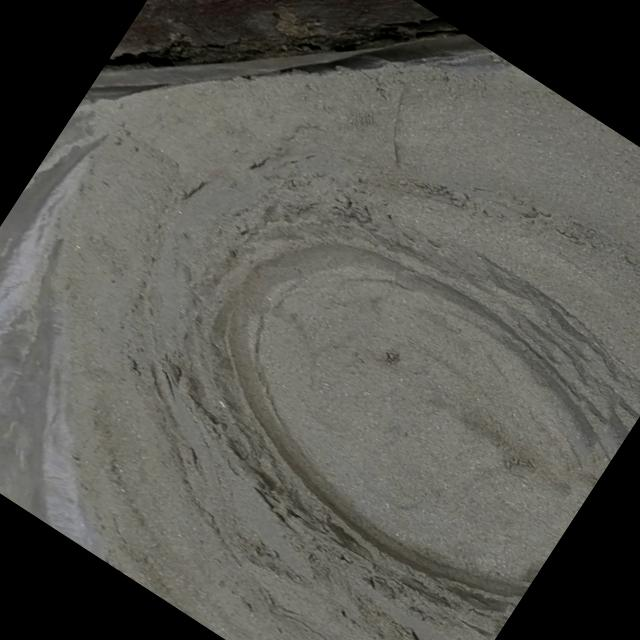C40: (165, 204, 617, 637)
